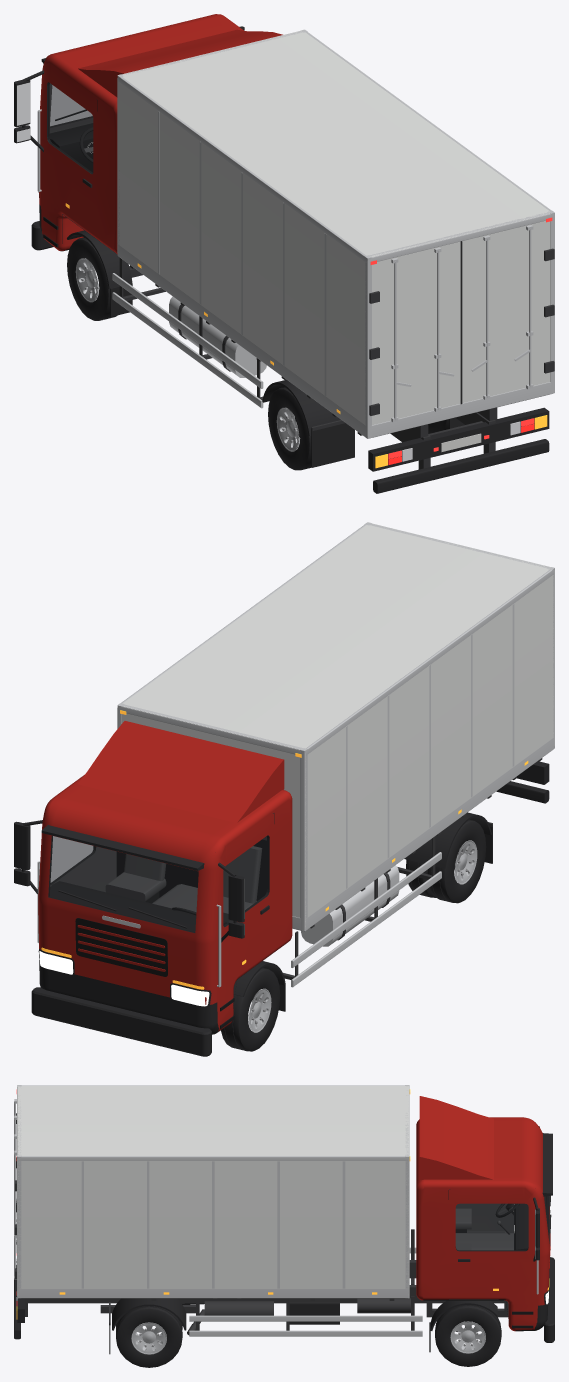
File: lorry_box.glb
3 views of the same model, one above another, from view 1: azimuth 30°, elevation 25°; view 2: azimuth 150°, elevation 25°; view 3: azimuth 270°, elevation 25° (orthographic). The views are drawn at different scales.
Parts seen in each view (by area): view 1: Body, Glass, Wheel_FL, Wheel_RL, Interior; view 2: Body, Glass, Interior, Wheel_RL, Wheel_FL, Lights_Head; view 3: Body, Glass, Wheel_FR, Wheel_RR, Interior.
Part boxes in pixels (left/top/right/bottom): Body: left=14, top=14, right=554, bottom=493; Glass: left=48, top=82, right=92, bottom=173; Wheel_FL: left=67, top=237, right=117, bottom=320; Wheel_RL: left=268, top=387, right=311, bottom=470; Interior: left=49, top=123, right=93, bottom=172; Body: left=14, top=522, right=554, bottom=1056; Glass: left=49, top=836, right=268, bottom=932; Interior: left=49, top=837, right=266, bottom=931; Wheel_RL: left=406, top=819, right=486, bottom=903; Wheel_FL: left=221, top=968, right=280, bottom=1051; Lights_Head: left=39, top=951, right=209, bottom=1006; Body: left=14, top=1085, right=554, bottom=1354; Glass: left=456, top=1196, right=548, bottom=1250; Wheel_FR: left=435, top=1305, right=501, bottom=1366; Wheel_RR: left=116, top=1306, right=182, bottom=1367; Interior: left=455, top=1196, right=545, bottom=1250.
Size of the model in its own units: 3 by 3.4 by 7.8.
